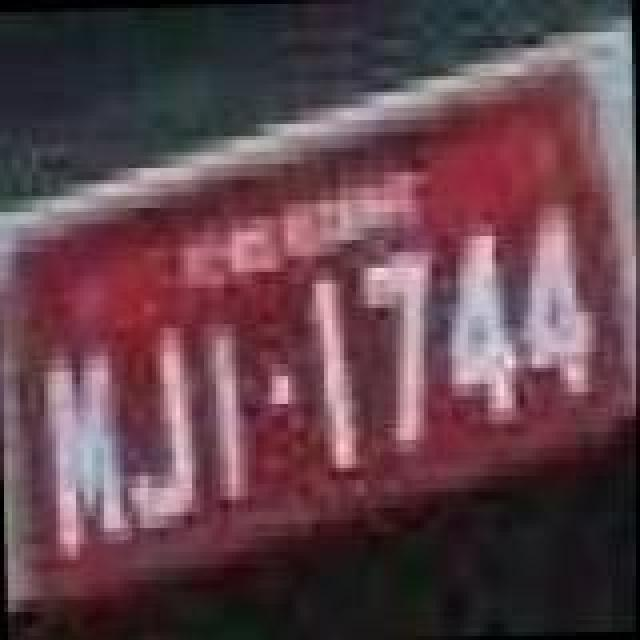1: (310, 276, 362, 476), (204, 318, 248, 506)
4: (432, 214, 524, 430), (512, 194, 604, 398)
7: (356, 248, 436, 452)
J: (122, 316, 202, 536)
M: (44, 348, 136, 564)
